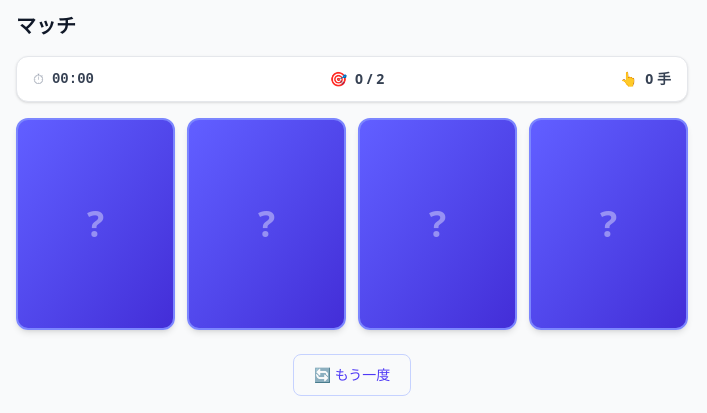
Test: MatchingGame › keeps a correctly matched pair revealed and updates the matched counter
Click the button "? EN apple" at (608, 224), box 529,118 -> 688,330
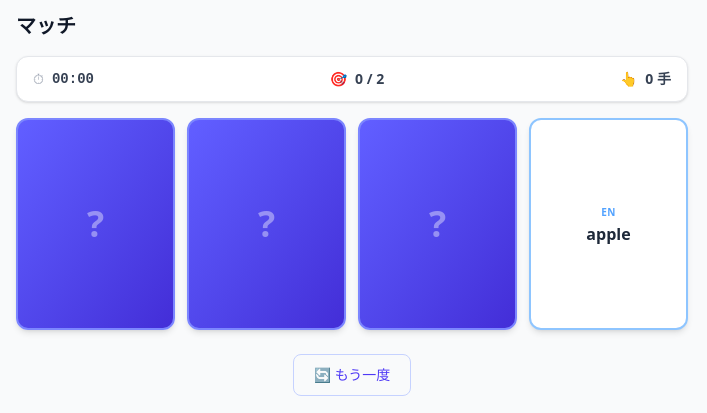
Click the button "? JA りんご" at (266, 224), box 187,118 -> 346,330
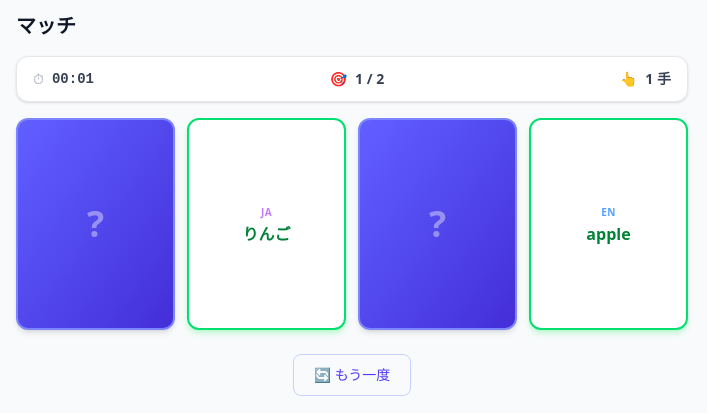
Result: the text "1 / 2" is shown at 355,69 -> 384,89
Result: the button "? EN apple" is disabled at 529,118 -> 688,330
